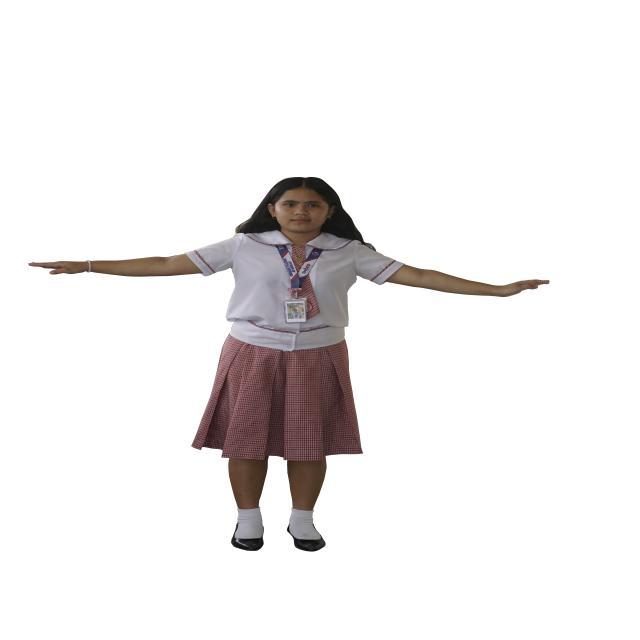id lace: (275, 245, 323, 306), (285, 299, 308, 323)
pologirl: (185, 231, 403, 351), (300, 278, 320, 319), (291, 245, 308, 270)
skirt: (192, 335, 362, 461)
